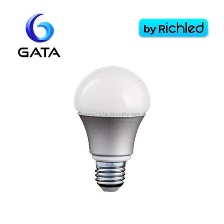light_bulb: (68, 62, 153, 195)
